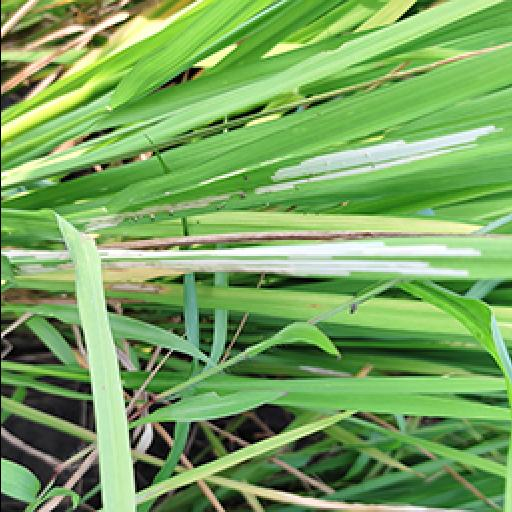Bacterial Leaf Blight: (4, 234, 476, 284), (254, 114, 502, 204), (0, 146, 92, 182), (62, 200, 134, 230)
